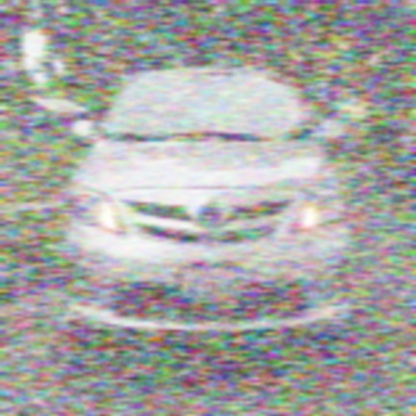Vehicle: (56, 58, 362, 367)
